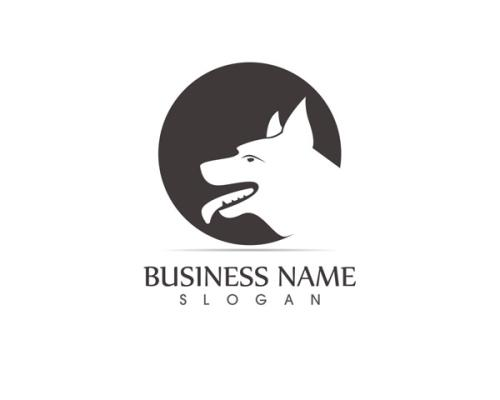ImgView: (1, 1, 499, 399)
